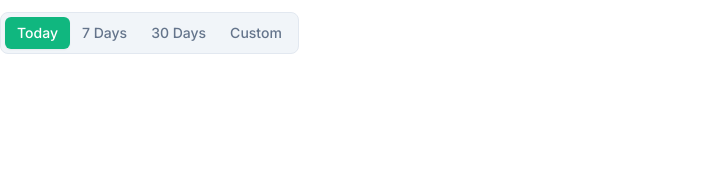
Test: PeriodSelector › custom date range › hides date picker when switching to non-custom period
// Open custom picker
Step 1. Click the button "Custom" → (256, 33), box [218, 17, 294, 49]
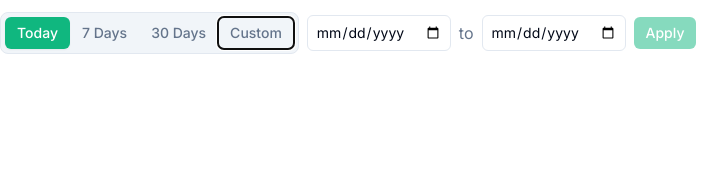
Result: the button "Apply" is shown at [634, 17, 696, 49]
// Switch to 7 days
Step 2. Click the button "7 Days" → (105, 33), box [70, 17, 139, 49]
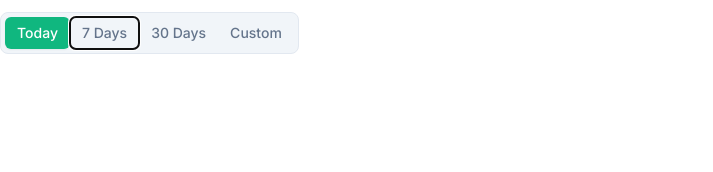
Result: the button "Apply" is gone
